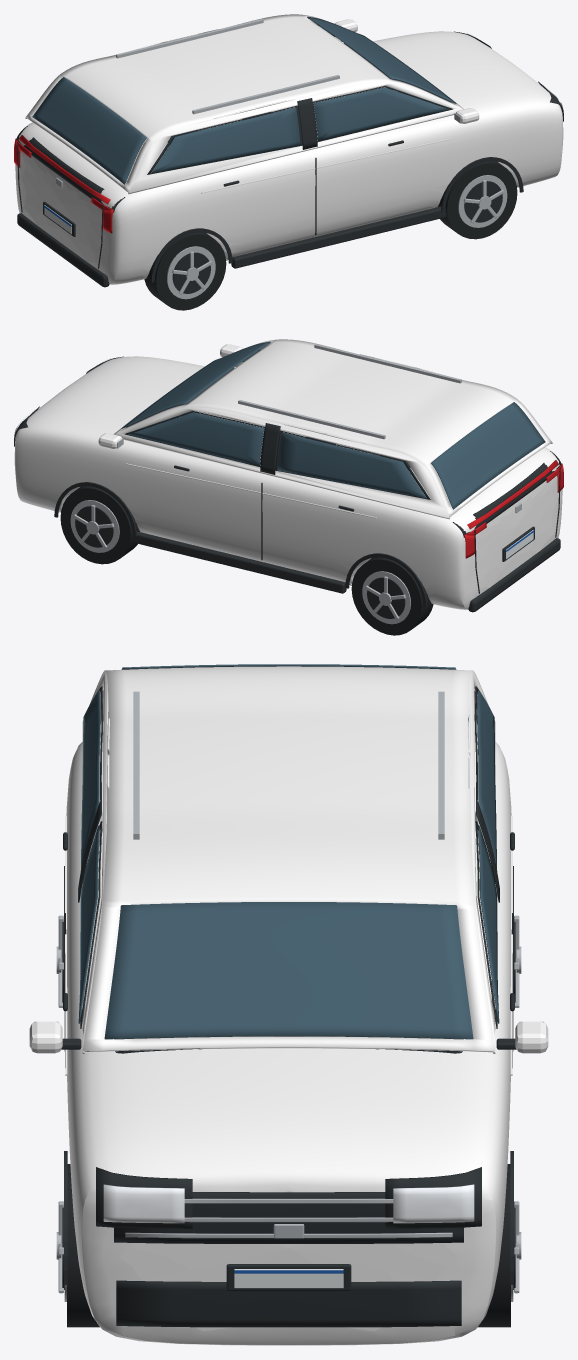
File: vw-t-cross.glb
3 renders of one model, top to bottom at view 1: azimuth 30°, elevation 25°; view 2: azimuth 150°, elevation 25°; view 3: azimuth 270°, elevation 25°, orthographic. The views are drawn at different scales.
Visible parts, largest first — view 1: FleetBody, FleetGlass, FleetTrim, FleetRubber, FleetLights; view 2: FleetBody, FleetGlass, FleetTrim, FleetRubber, FleetLights; view 3: FleetBody, FleetGlass, FleetTrim, FleetLights, FleetRubber.
Boxes of the visible parts, <box> form: FleetBody: <box>15,14,563,284</box>; FleetGlass: <box>32,16,456,184</box>; FleetTrim: <box>16,19,563,299</box>; FleetRubber: <box>144,161,517,310</box>; FleetLights: <box>14,33,563,234</box>; FleetBody: <box>14,339,562,609</box>; FleetGlass: <box>121,341,545,509</box>; FleetTrim: <box>14,344,561,624</box>; FleetRubber: <box>60,486,433,635</box>; FleetLights: <box>14,358,563,559</box>; FleetBody: <box>29,666,548,1345</box>; FleetGlass: <box>78,664,499,1039</box>; FleetTrim: <box>34,686,543,1327</box>; FleetLights: <box>103,1184,474,1288</box>; FleetRubber: <box>67,1164,510,1327</box>.
Bounding box in the file's own units: 4.2 × 1.57 × 2.03.
